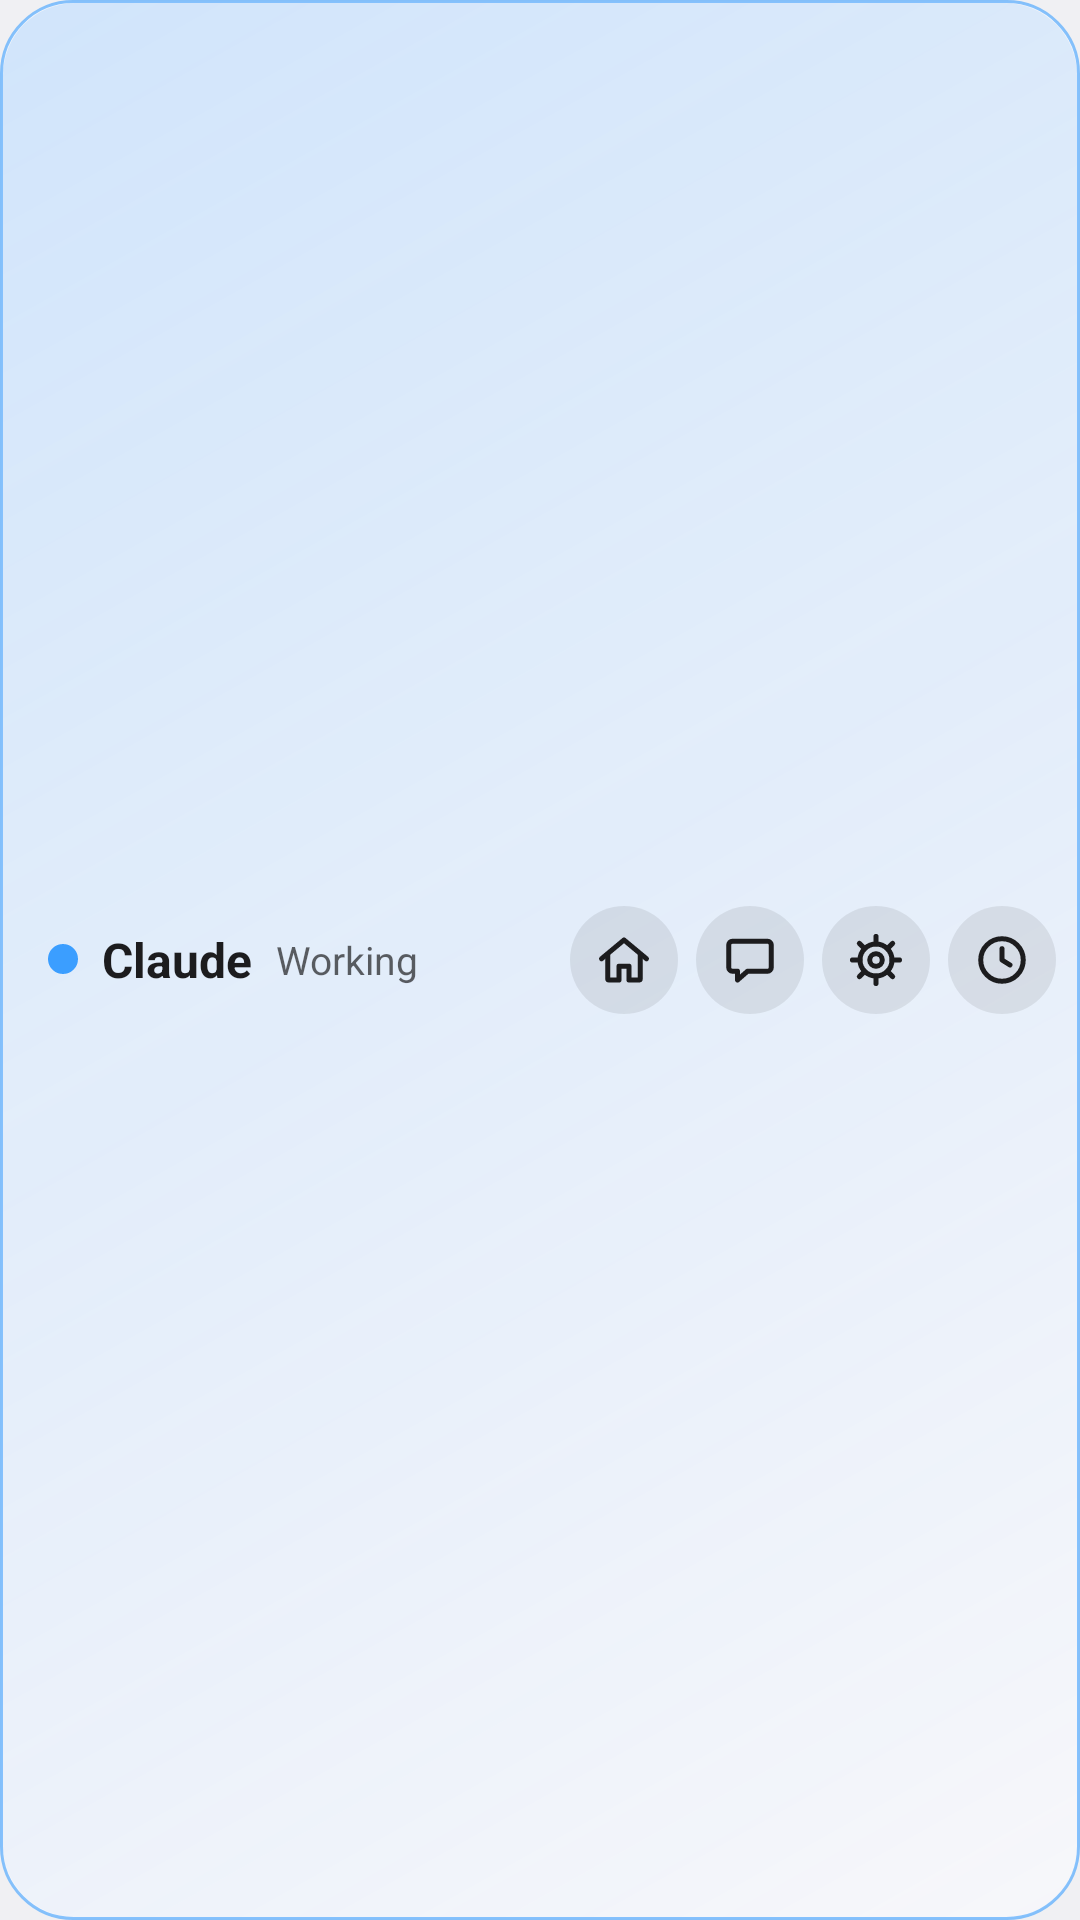

Icons on this 1080×1920 Android screen, each with its box as (x1, y1, x2, y2):
widget chat: (696, 906, 804, 1014)
widget home: (570, 906, 678, 1014)
widget recent: (948, 906, 1056, 1014)
widget settings: (822, 906, 930, 1014)
